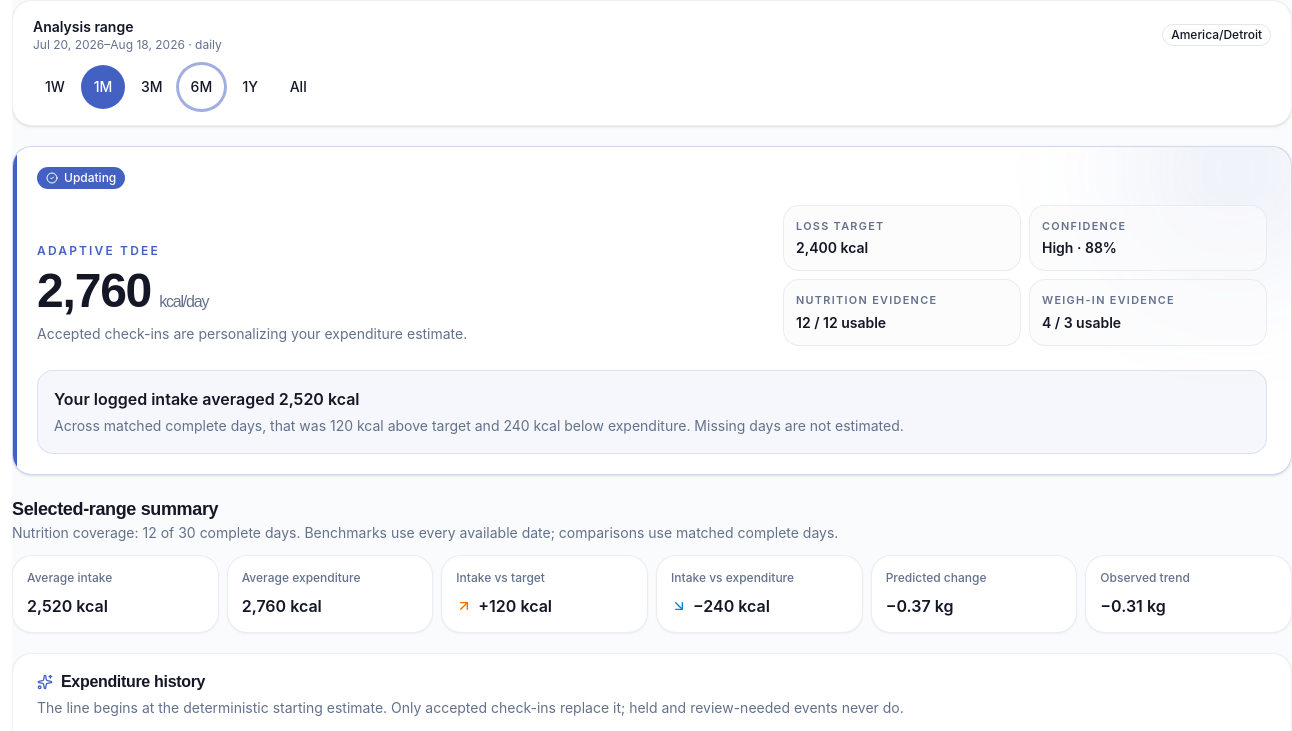
it: EnergyBalanceWorkspace › keeps range focus and updates visible summary values from the selected response
Click the button "6M": [201, 87] box [179,65,224,109]
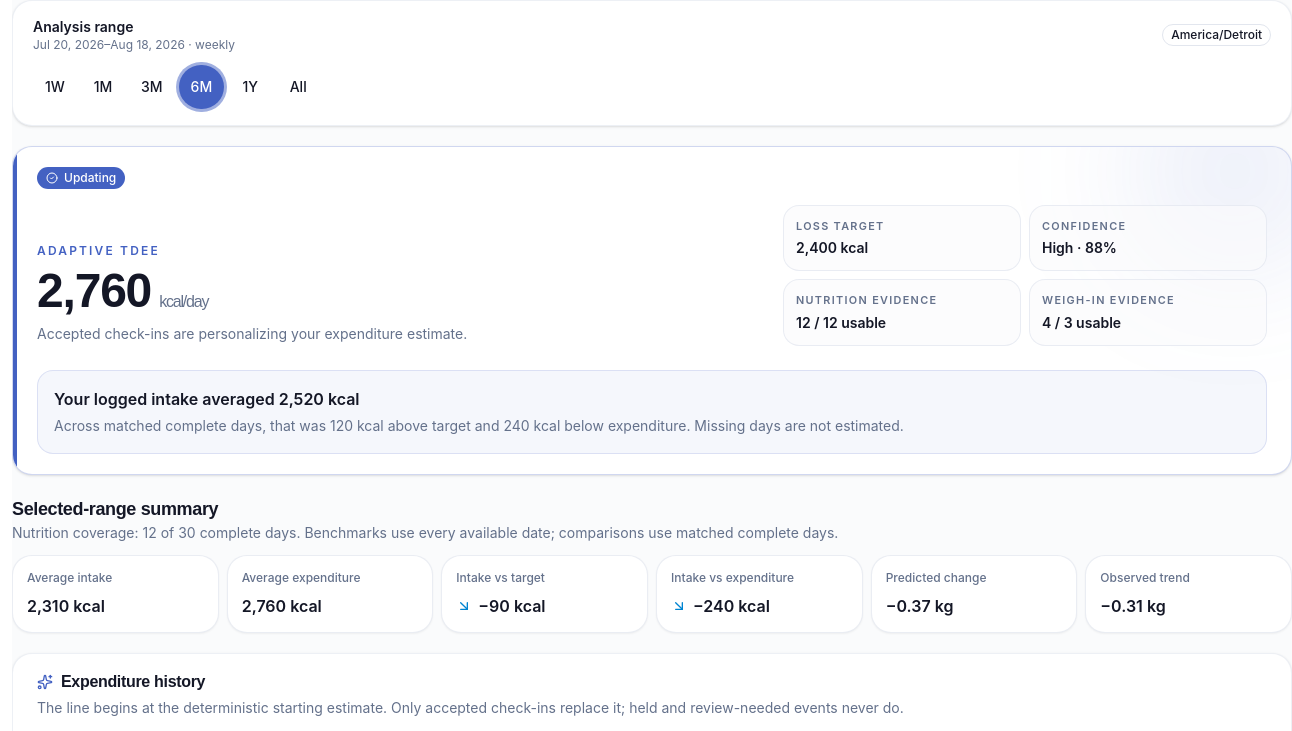
Expected: the text "2,310 kcal" is shown, [27,596,105,616]
Expected: the text "−90 kcal" is shown, [456,596,546,616]
